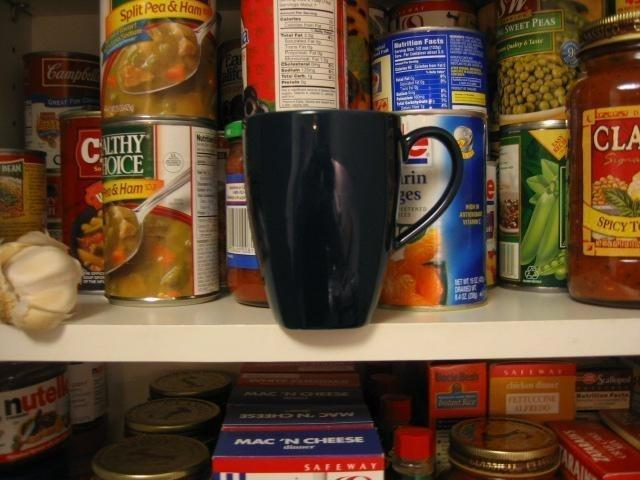cup-handle: (242, 107, 464, 329)
